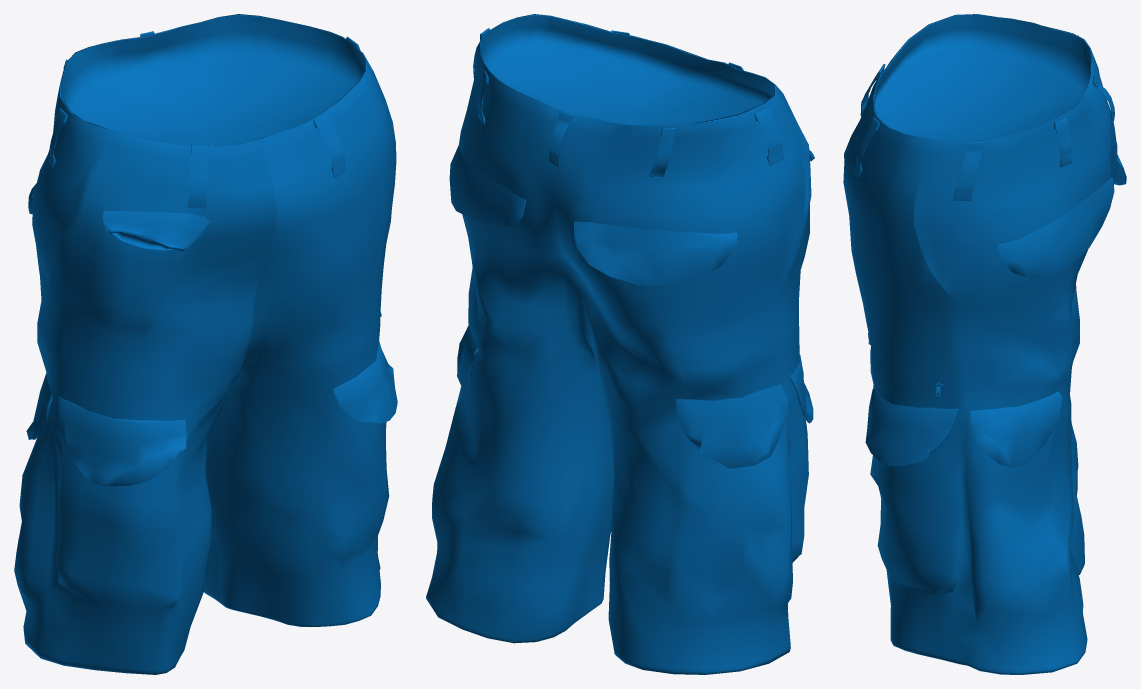
The picture shows the model from 3 angles, left to right: view 1: azimuth 30°, elevation 25°; view 2: azimuth 150°, elevation 25°; view 3: azimuth 270°, elevation 25°; orthographic projection. The views are drawn at different scales.
Visible parts, largest first — view 1: Bottoms; view 2: Bottoms; view 3: Bottoms.
Part boxes in pixels (left/top/right/bottom): Bottoms: left=14, top=14, right=397, bottom=674; Bottoms: left=426, top=14, right=814, bottom=674; Bottoms: left=843, top=14, right=1126, bottom=674.
Size of the model in its own units: 0.3912 by 0.5898 by 0.2835.
